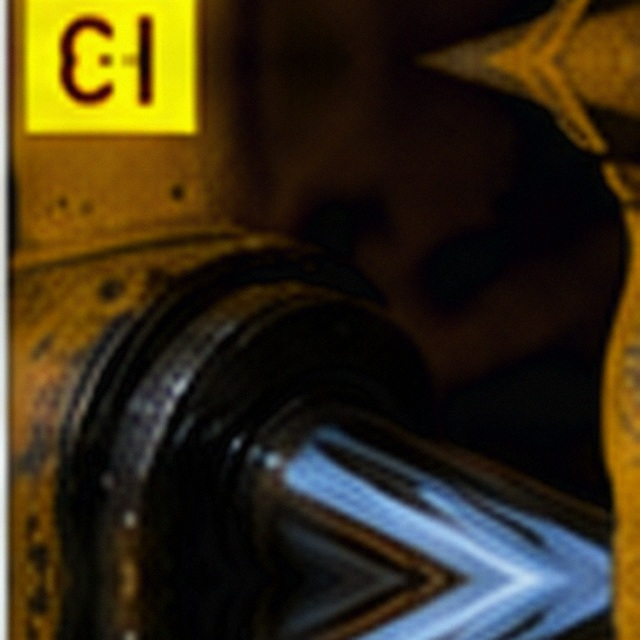hydraulic_oil_leak: (157, 225, 431, 465)
